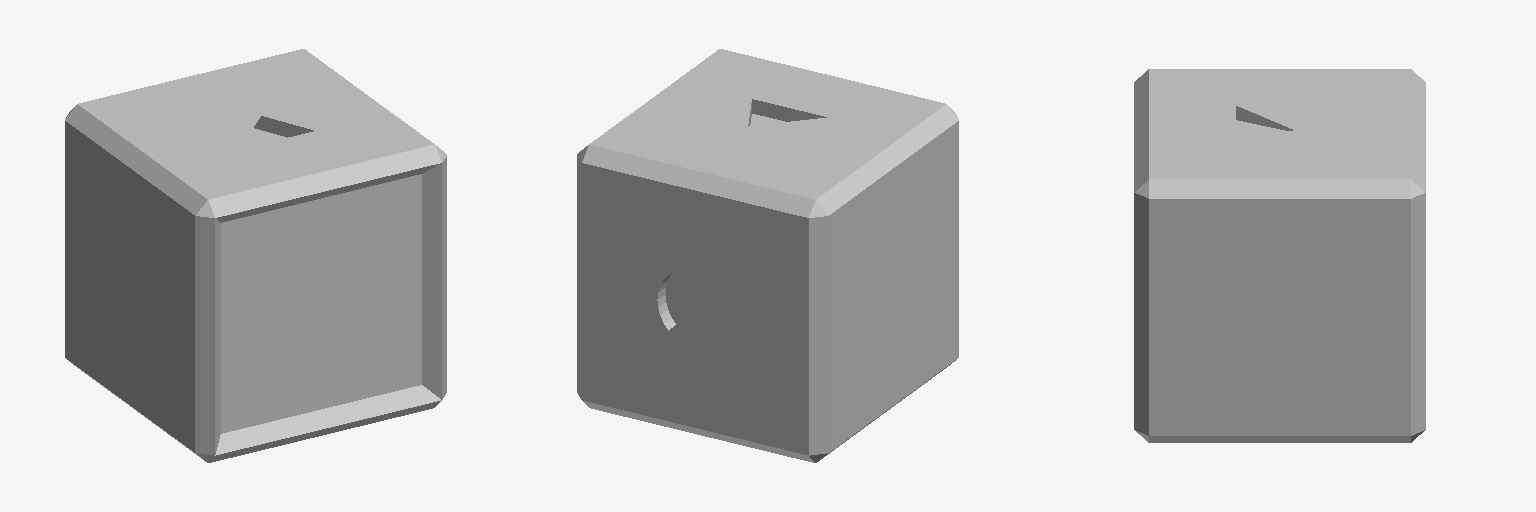
Rendered from CubeWithSlotAndTileSymbolsUVMapped.obj.
3 renders of one model, left to right at view 1: azimuth 30°, elevation 25°; view 2: azimuth 150°, elevation 25°; view 3: azimuth 270°, elevation 25°, orthographic.
Parts seen in each view (by area): view 1: CubeWithSlotSymbols; view 2: CubeWithSlotSymbols; view 3: CubeWithSlotSymbols.
Part boxes in pixels (x1,y1,x2,y2): CubeWithSlotSymbols: (65, 49, 446, 462); CubeWithSlotSymbols: (577, 49, 958, 462); CubeWithSlotSymbols: (1134, 69, 1425, 442).
Size of the model in its own units: 2 by 2 by 2.